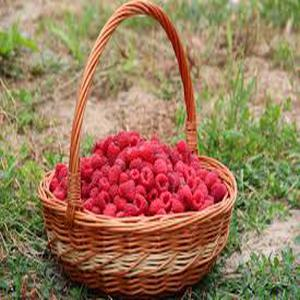raspb: (52, 122, 235, 235)
